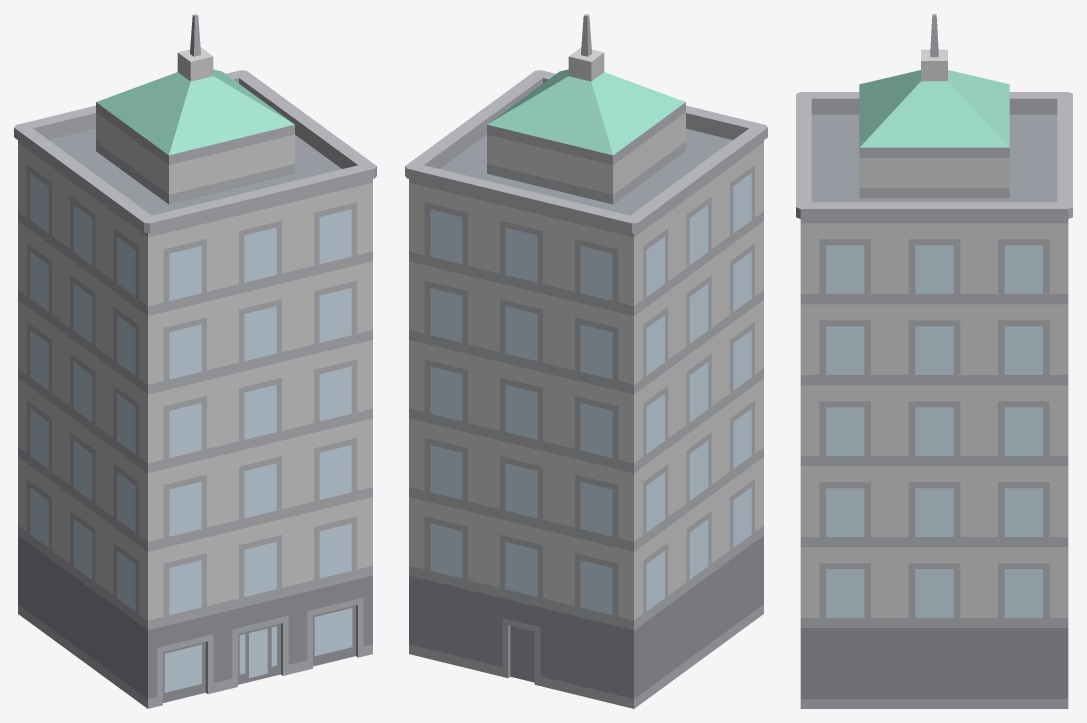
File: SkyscraperE-transformed.glb
The picture shows the model from 3 angles, left to right: view 1: azimuth 30°, elevation 25°; view 2: azimuth 150°, elevation 25°; view 3: azimuth 270°, elevation 25°; orthographic projection. The views are drawn at different scales.
Visible parts, largest first — view 1: skyscraperE; view 2: skyscraperE; view 3: skyscraperE.
Boxes of the visible parts, x1,y1,x2,y2 form: skyscraperE: (14,14,376,708); skyscraperE: (405,14,767,708); skyscraperE: (796,14,1072,708).
Bounding box in the file's own units: 1.24 × 3.15 × 1.24.
